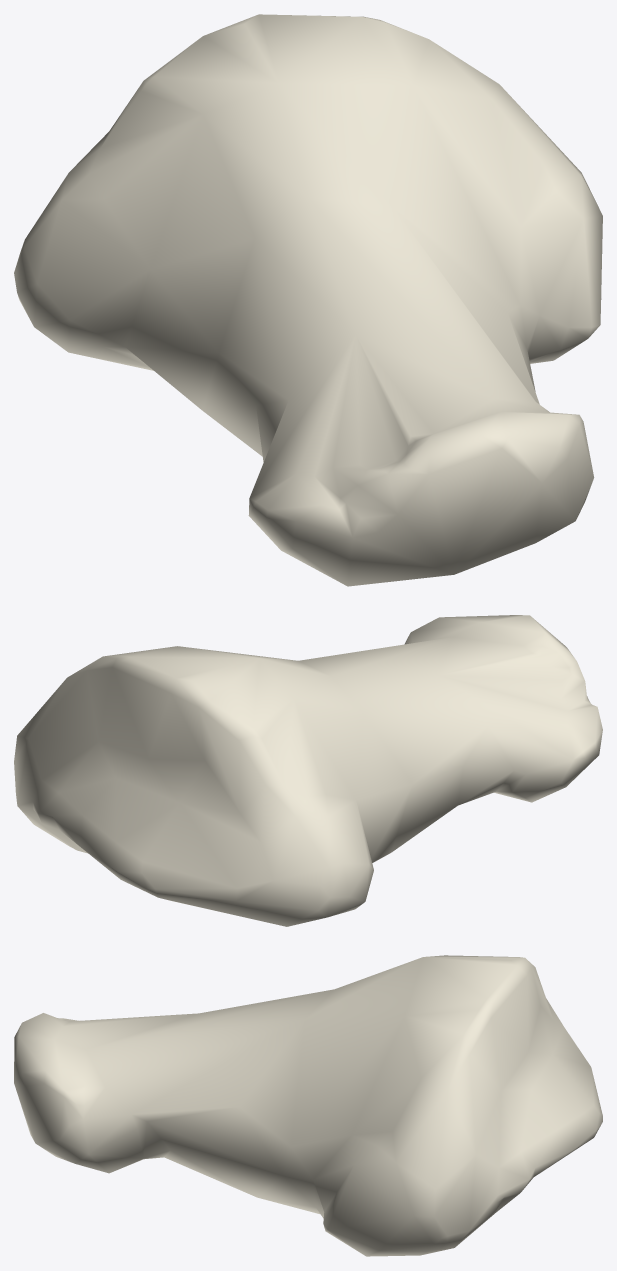
3 views of the same model, one above another, from view 1: azimuth 30°, elevation 25°; view 2: azimuth 150°, elevation 25°; view 3: azimuth 270°, elevation 25° (orthographic). The views are drawn at different scales.
Visible parts, largest first — view 1: ZA_686672aa34d16376; view 2: ZA_686672aa34d16376; view 3: ZA_686672aa34d16376.
Boxes of the visible parts, left/top/right/bottom form: ZA_686672aa34d16376: left=14, top=14, right=602, bottom=586; ZA_686672aa34d16376: left=14, top=615, right=602, bottom=926; ZA_686672aa34d16376: left=14, top=955, right=602, bottom=1256.
Size of the model in its own units: 0.0207 by 0.0115 by 0.0269.
